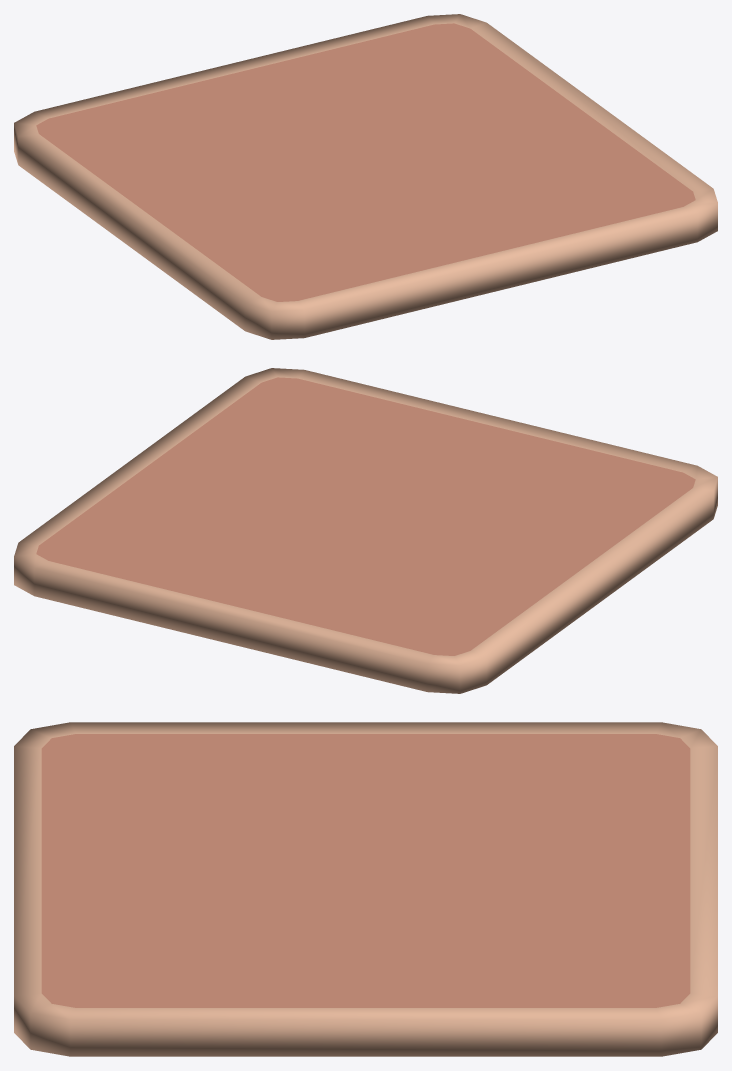
File: [OBJ]Canteiro_1.fbx
The picture shows the model from 3 angles, top to bottom: view 1: azimuth 30°, elevation 25°; view 2: azimuth 150°, elevation 25°; view 3: azimuth 270°, elevation 25°; orthographic projection. The views are drawn at different scales.
Visible parts, largest first — view 1: [OBJ]Canteiro_1; view 2: [OBJ]Canteiro_1; view 3: [OBJ]Canteiro_1.
Boxes of the visible parts, <box> form: [OBJ]Canteiro_1: <box>14,14,717,339</box>; [OBJ]Canteiro_1: <box>14,368,717,693</box>; [OBJ]Canteiro_1: <box>14,722,717,1056</box>.
Size of the model in its own units: 200 by 11.61 by 200.
